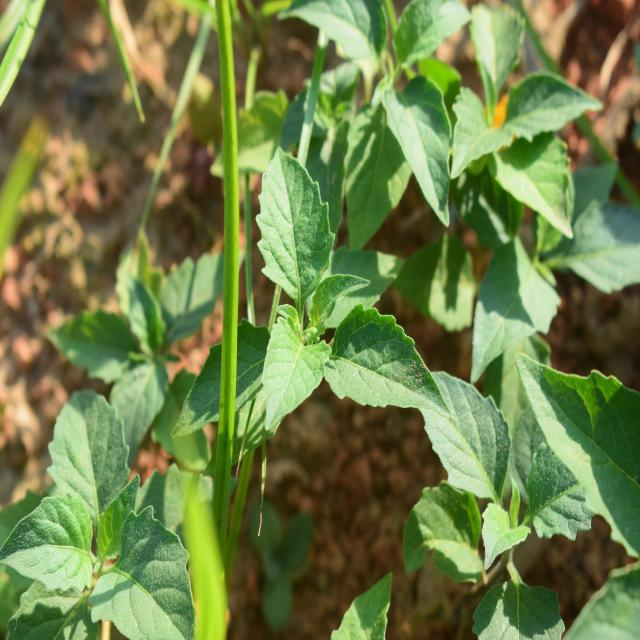Black_nightshade: (392, 26, 595, 320), (246, 141, 418, 455), (9, 397, 195, 638), (438, 360, 582, 602)
